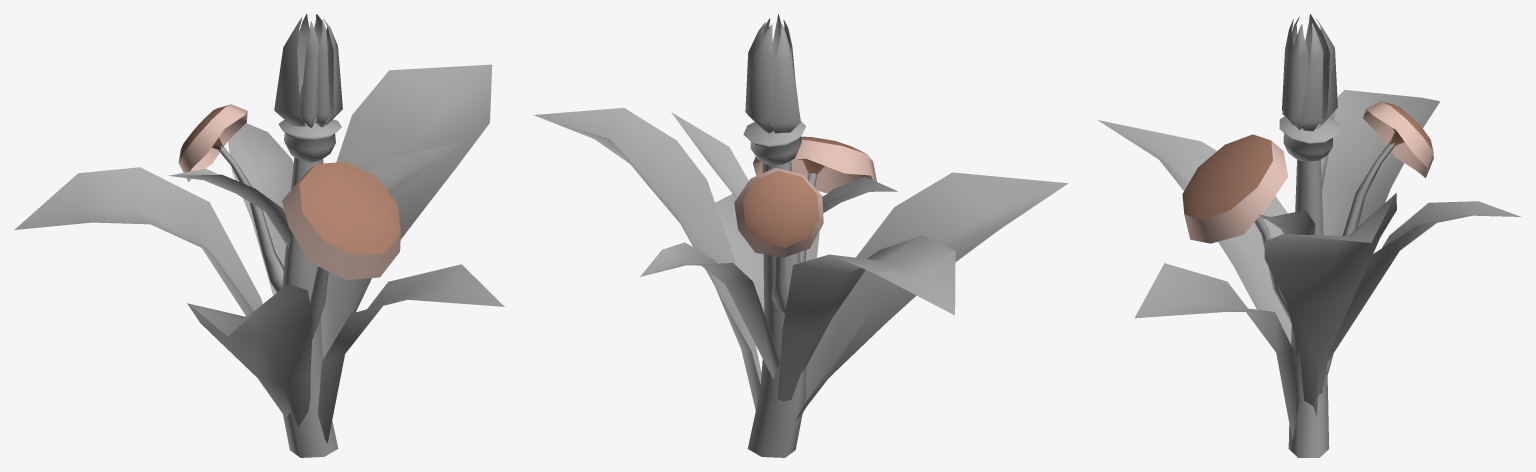
File: MushFlower_Stage02.fbx
3 views of the same model, side by side, from view 1: azimuth 30°, elevation 25°; view 2: azimuth 150°, elevation 25°; view 3: azimuth 270°, elevation 25° (orthographic).
Visible parts, largest first — view 1: MushroomFlower_Stage02; view 2: MushroomFlower_Stage02; view 3: MushroomFlower_Stage02.
Part boxes in pixels (bbox=[...]): MushroomFlower_Stage02: bbox=[14, 14, 504, 457]; MushroomFlower_Stage02: bbox=[534, 14, 1067, 457]; MushroomFlower_Stage02: bbox=[1098, 14, 1520, 457].
Size of the model in its own units: 35.51 by 32.62 by 29.2.
